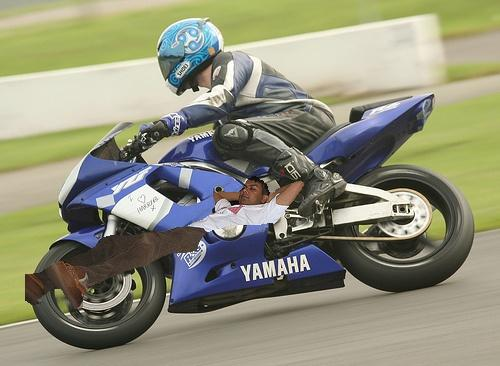tampered: (26, 177, 304, 309)
